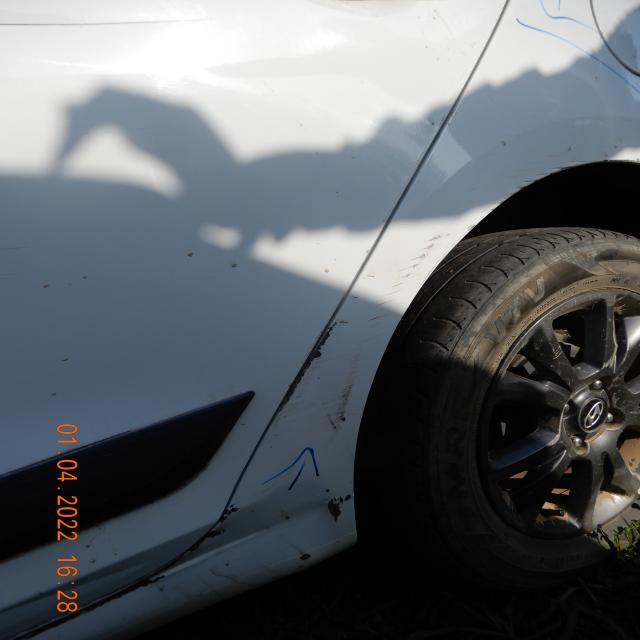damage: (25, 503, 236, 639), (271, 318, 360, 437), (298, 489, 352, 568), (399, 222, 454, 297)
